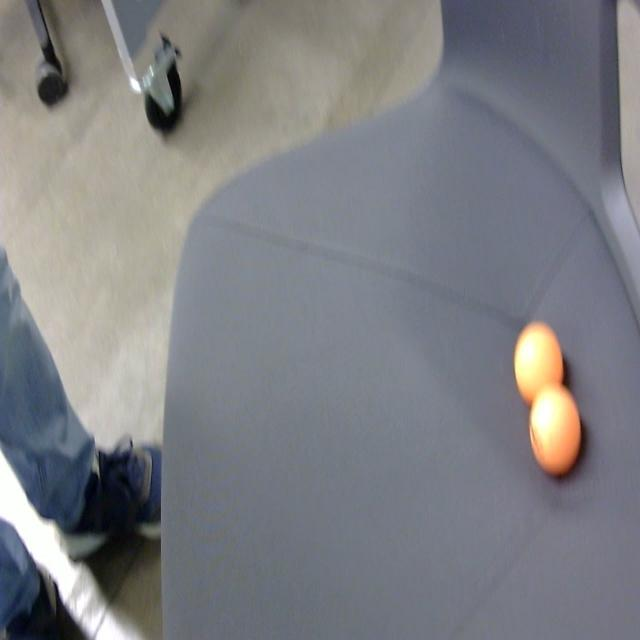ball: (529, 385, 584, 480), (516, 319, 564, 408)
